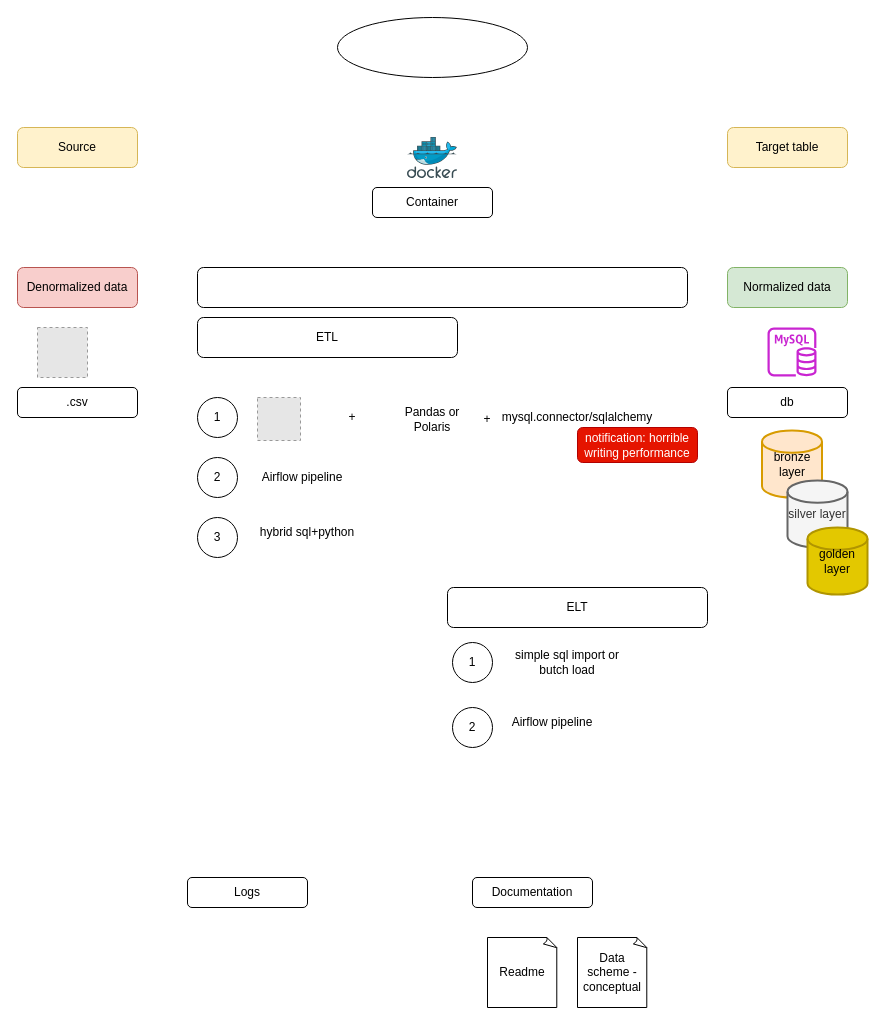
Image size: 886x1025. Some labels were removed from this diagram. Grey dashed boxes stand in for pictures. The centre of each missing label's shape, as x and y in pixels:
"Possible solutions" goes at (442,287).
"Task decomposition" goes at (432,47).
